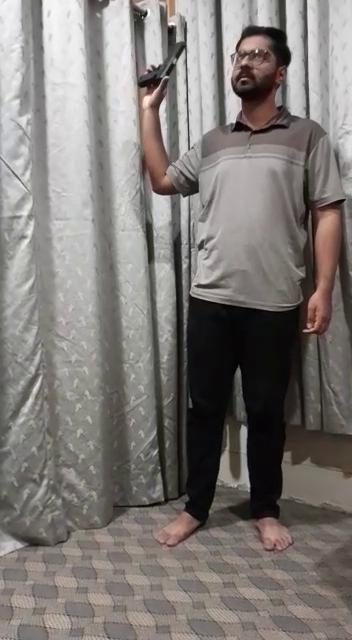criminal: (130, 22, 346, 555)
weapon: (134, 39, 186, 93)
